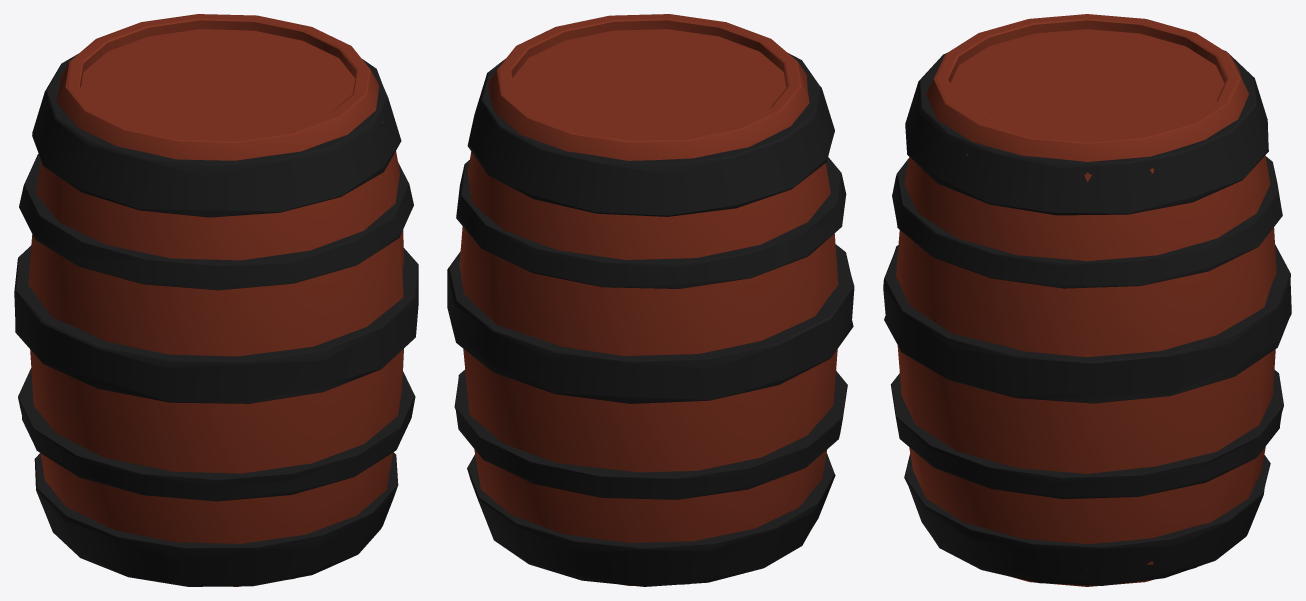
File: Env_Barrel.fbx
3 renders of one model, left to right at view 1: azimuth 30°, elevation 25°; view 2: azimuth 150°, elevation 25°; view 3: azimuth 270°, elevation 25°, orthographic.
Visible parts, largest first — view 1: Env_Barrel; view 2: Env_Barrel; view 3: Env_Barrel.
Part boxes in pixels (x1,y1,x2,y2): Env_Barrel: (14,14,418,586); Env_Barrel: (447,14,854,586); Env_Barrel: (883,14,1291,586).
Bounding box in the file's own units: 2.67 × 3.2 × 2.67.
